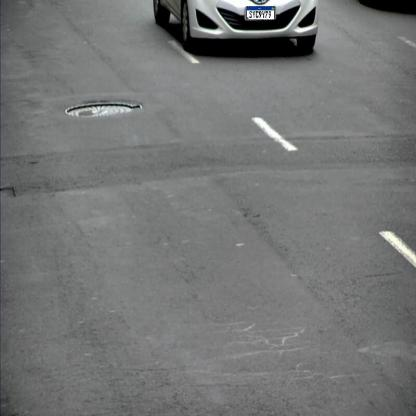PlacaM: (247, 6, 274, 20)
